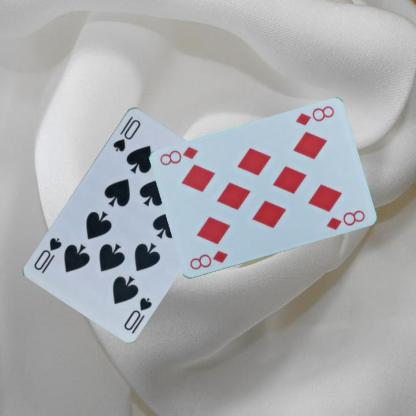10s: (110, 113, 142, 153), (121, 294, 154, 332)
8d: (293, 103, 335, 128), (186, 248, 228, 271)
